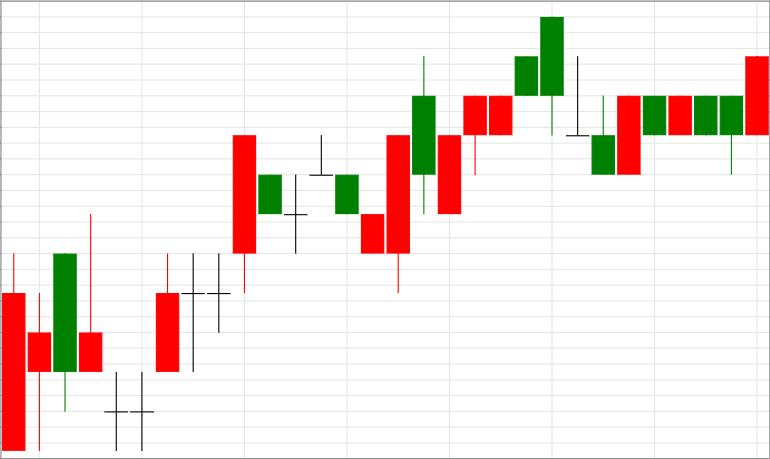bullish_engulfing_rise: (514, 17, 641, 175)
